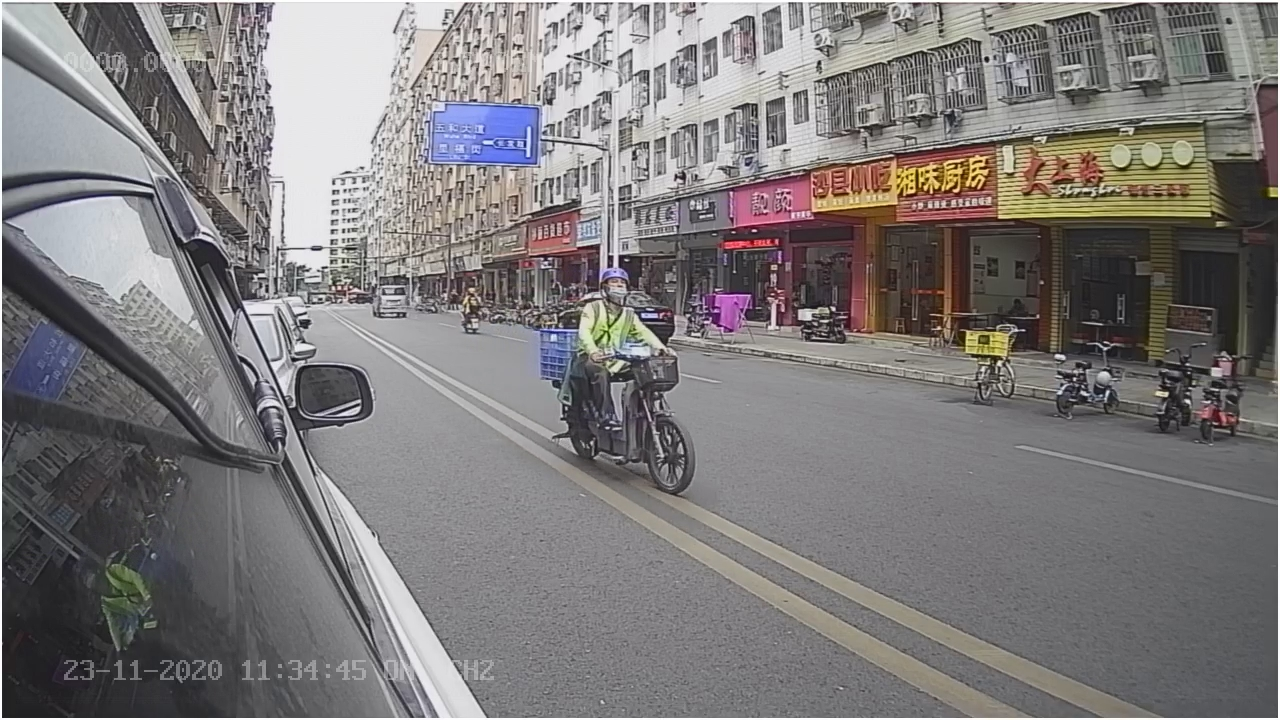person: (580, 264, 667, 361)
